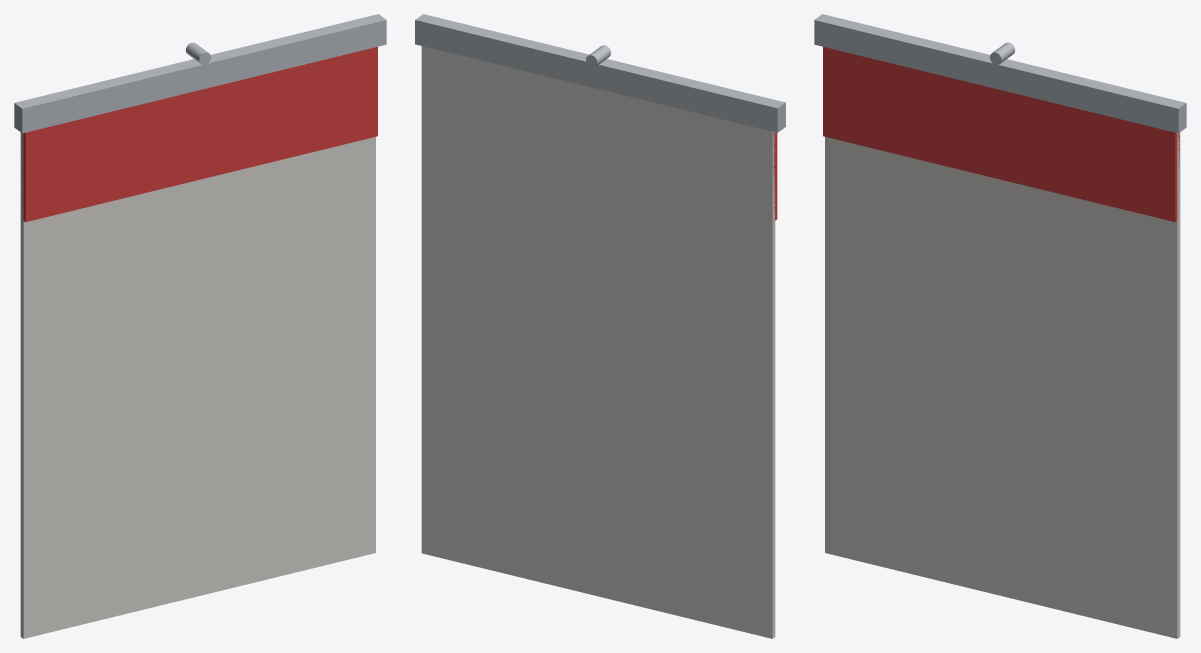
File: calendar.fbx
3 views of the same model, side by side, from view 1: azimuth 30°, elevation 25°; view 2: azimuth 150°, elevation 25°; view 3: azimuth 330°, elevation 25° (orthographic).
Visible parts, largest first — view 1: Calendar; view 2: Calendar; view 3: Calendar.
Boxes of the visible parts, <box> form: Calendar: <box>14,14,386,638</box>; Calendar: <box>415,14,785,638</box>; Calendar: <box>814,14,1186,638</box>.
Size of the model in its own units: 0.31 by 0.445 by 0.02.
